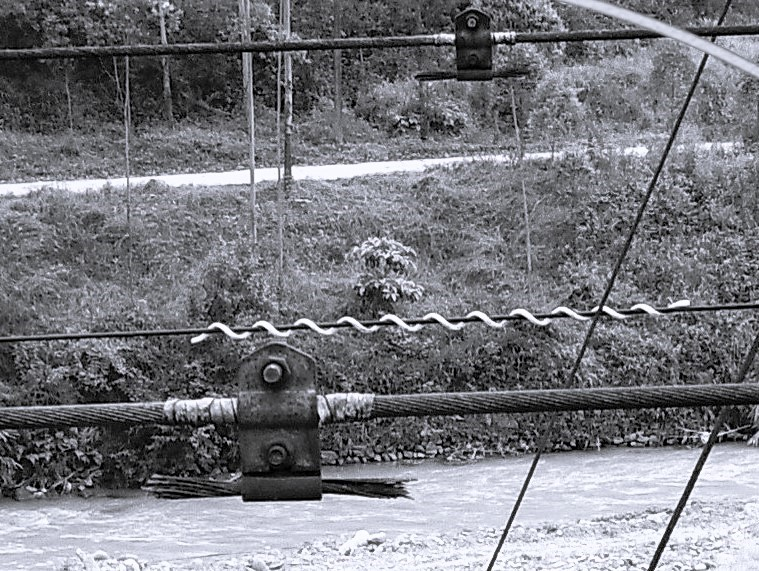Damage of shockproof hammer: (138, 337, 419, 511), (409, 3, 534, 95)
